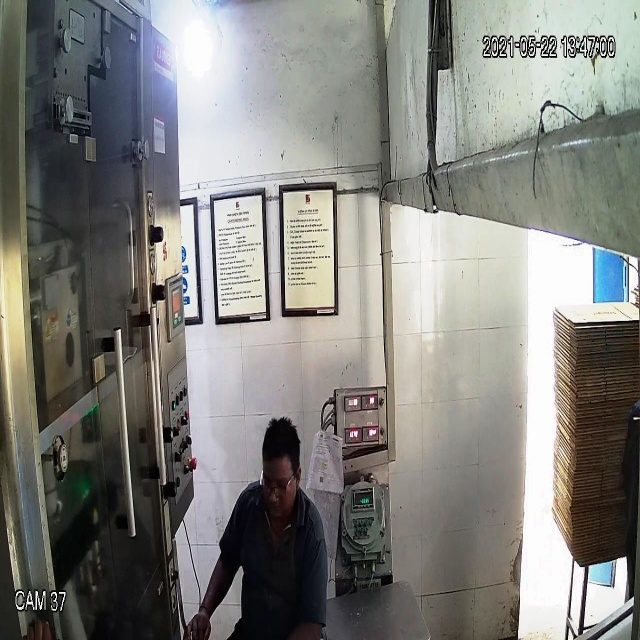Gafas: (252, 471, 300, 505)
